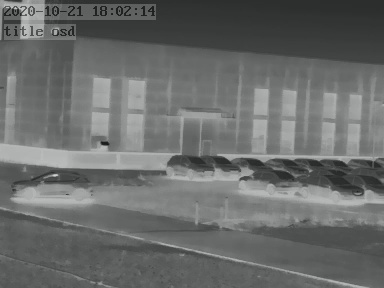vehicle: (8, 171, 94, 201), (304, 174, 363, 200), (238, 170, 299, 193), (164, 153, 212, 179), (353, 173, 384, 204), (206, 153, 242, 177), (231, 154, 272, 172), (261, 155, 303, 172), (347, 156, 379, 170), (317, 156, 347, 170), (295, 156, 324, 169)
